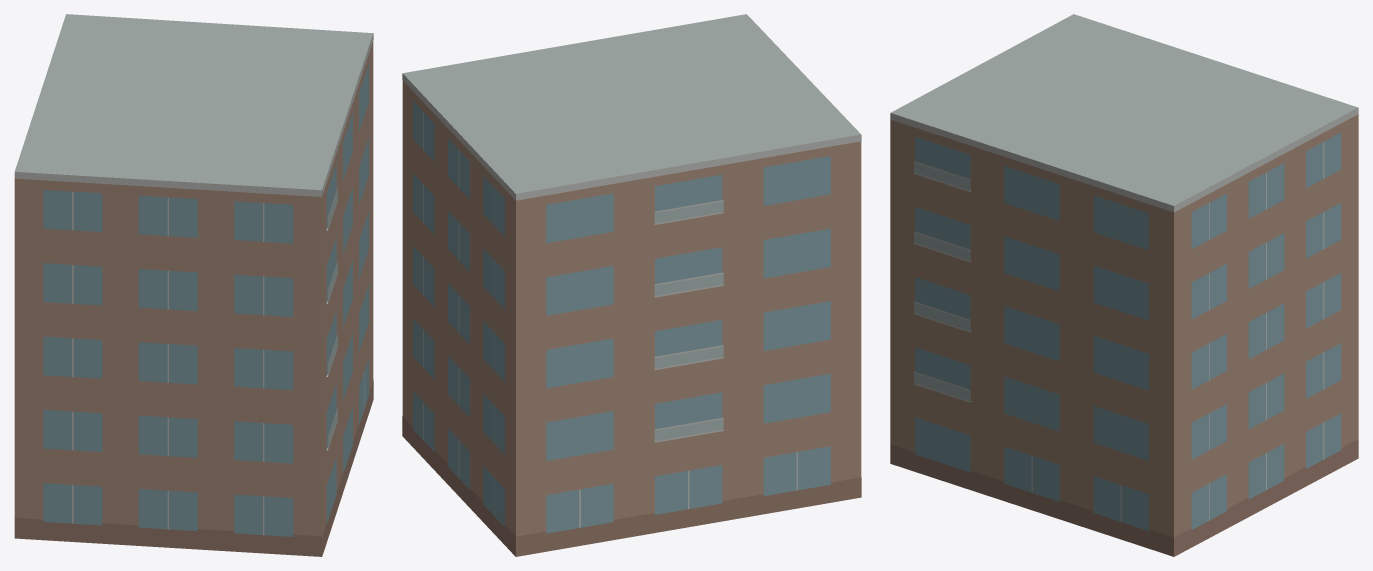
Rendered from survey-upis-32947146.glb.
The picture shows the model from 3 angles, left to right: view 1: azimuth 30°, elevation 25°; view 2: azimuth 150°, elevation 25°; view 3: azimuth 270°, elevation 25°; orthographic projection. The views are drawn at different scales.
Parts seen in each view (by area): view 1: survey-upis-32947146.tmp; view 2: survey-upis-32947146.tmp; view 3: survey-upis-32947146.tmp.
Boxes of the visible parts, bbox=[...] form: survey-upis-32947146.tmp: bbox=[14, 14, 373, 556]; survey-upis-32947146.tmp: bbox=[402, 14, 861, 556]; survey-upis-32947146.tmp: bbox=[890, 14, 1358, 556].
Size of the model in its own units: 15.5 by 13.2 by 15.97.
